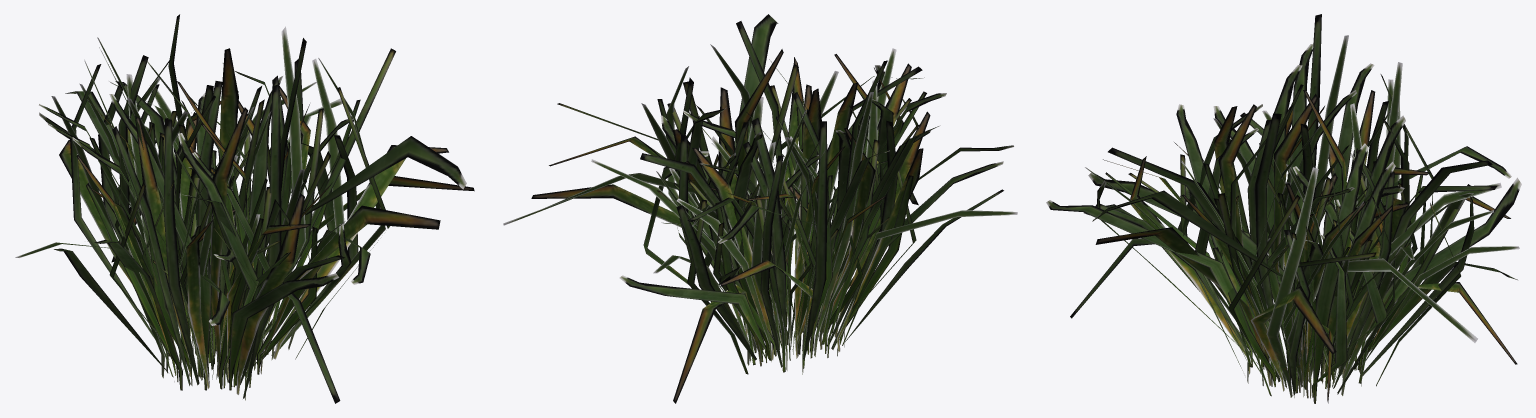
The model's file is high-grass-clump.glb.
The picture shows the model from 3 angles, left to right: view 1: azimuth 30°, elevation 25°; view 2: azimuth 150°, elevation 25°; view 3: azimuth 270°, elevation 25°; orthographic projection. The views are drawn at different scales.
Visible parts, largest first — view 1: High grass clump; view 2: High grass clump; view 3: High grass clump.
Boxes of the visible parts, x1=… form: High grass clump: x1=15, y1=14, x2=474, y2=403; High grass clump: x1=503, y1=14, x2=1017, y2=403; High grass clump: x1=1046, y1=14, x2=1521, y2=403.
Size of the model in its own units: 0.1084 by 0.0744 by 0.0985.
Materials: 1 (1 with a texture image).
